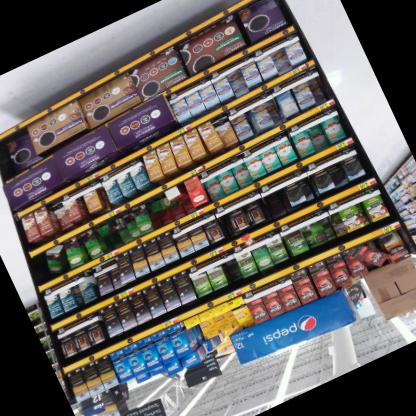empty_space: (221, 258, 247, 291), (28, 253, 51, 284)
